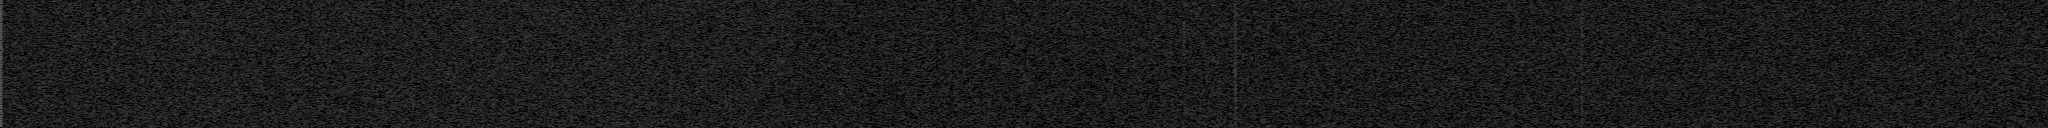wv_am: (1580, 0, 1584, 128)
wv_cw: (1233, 0, 1238, 128), (0, 0, 4, 128)
wv_dvbt_8kfft: (10, 0, 795, 128)
wv_lsb: (1182, 1, 1187, 128)
